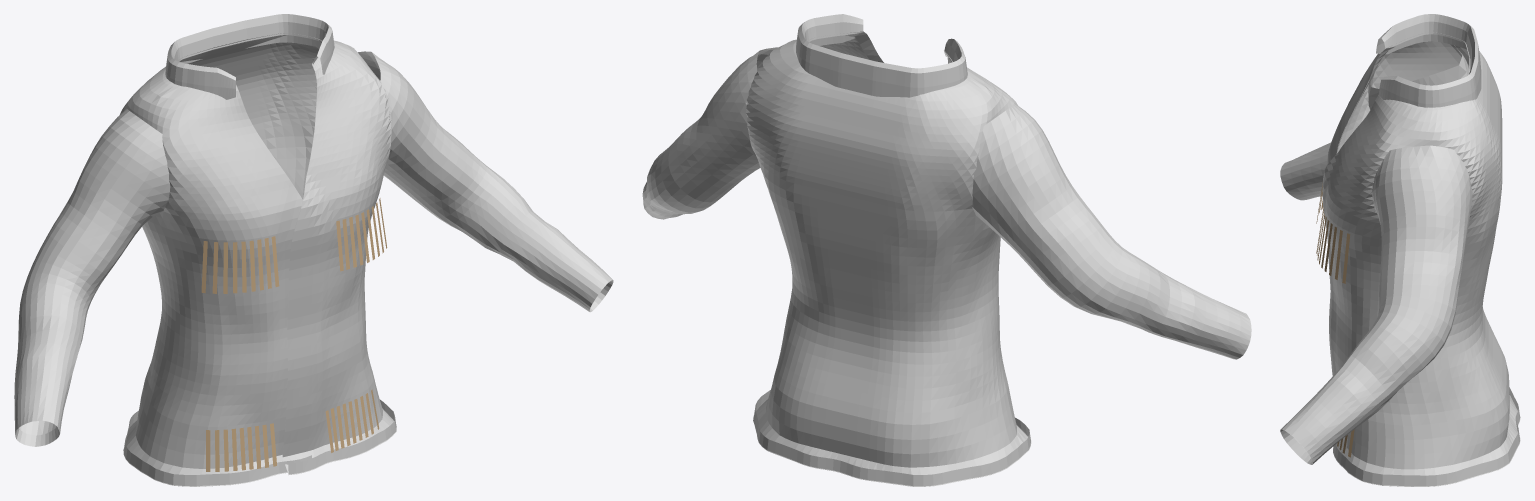
File: ewb_fringe_closed.glb
The picture shows the model from 3 angles, left to right: view 1: azimuth 30°, elevation 25°; view 2: azimuth 150°, elevation 25°; view 3: azimuth 270°, elevation 25°; orthographic projection. The views are drawn at different scales.
Visible parts, largest first — view 1: ewb_fringe_closed; view 2: ewb_fringe_closed; view 3: ewb_fringe_closed.
Boxes of the visible parts, x1=… form: ewb_fringe_closed: x1=14, y1=14, x2=613, y2=486; ewb_fringe_closed: x1=642, y1=14, x2=1251, y2=486; ewb_fringe_closed: x1=1280, y1=14, x2=1520, y2=486.
Bounding box in the file's own units: 1.11 × 0.7022 × 0.4014.
